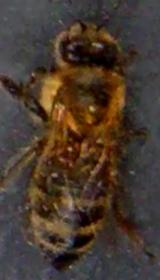varroa_mite: (52, 134, 84, 165)
